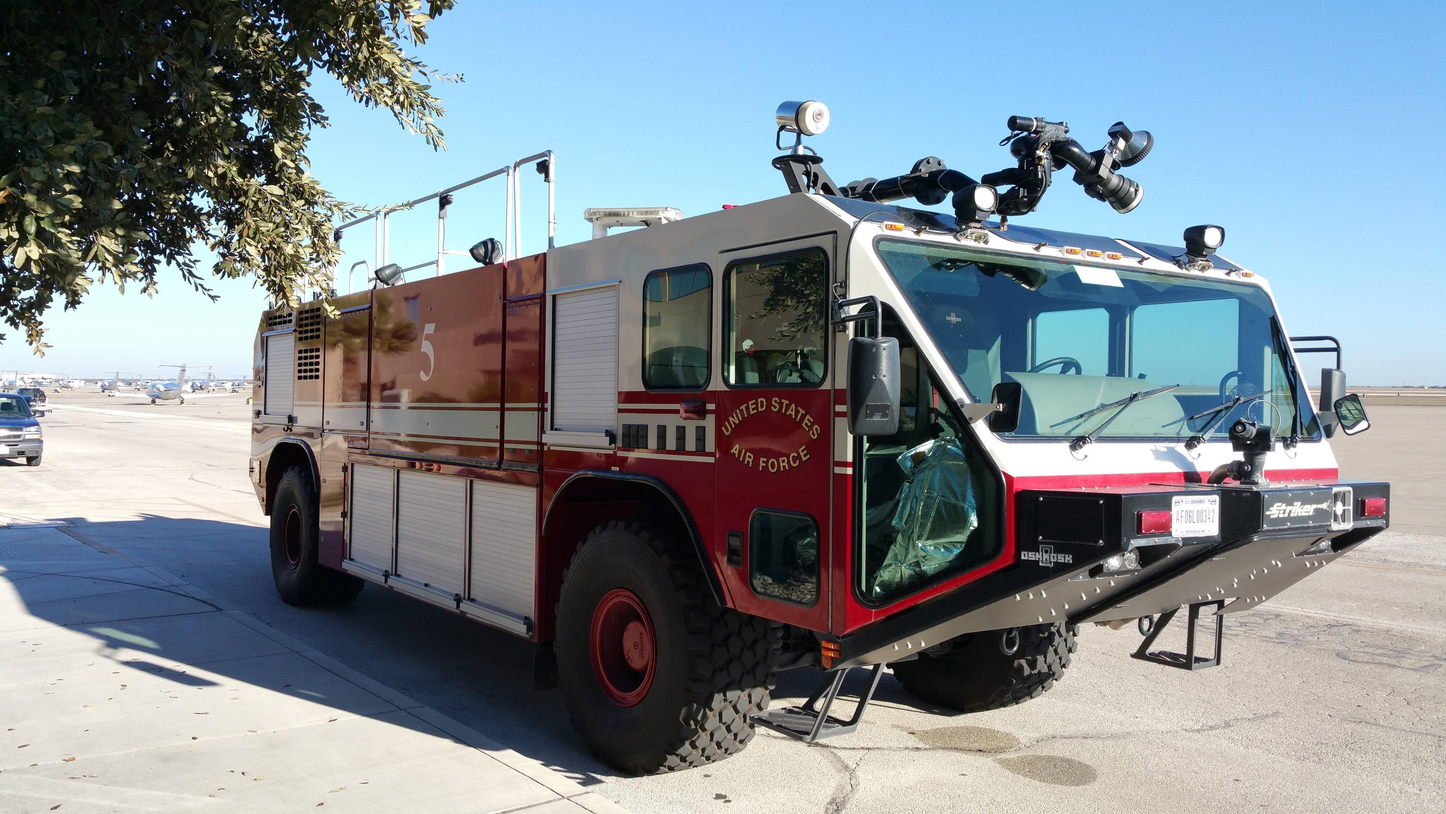Fire-engine: (247, 100, 1391, 777)
